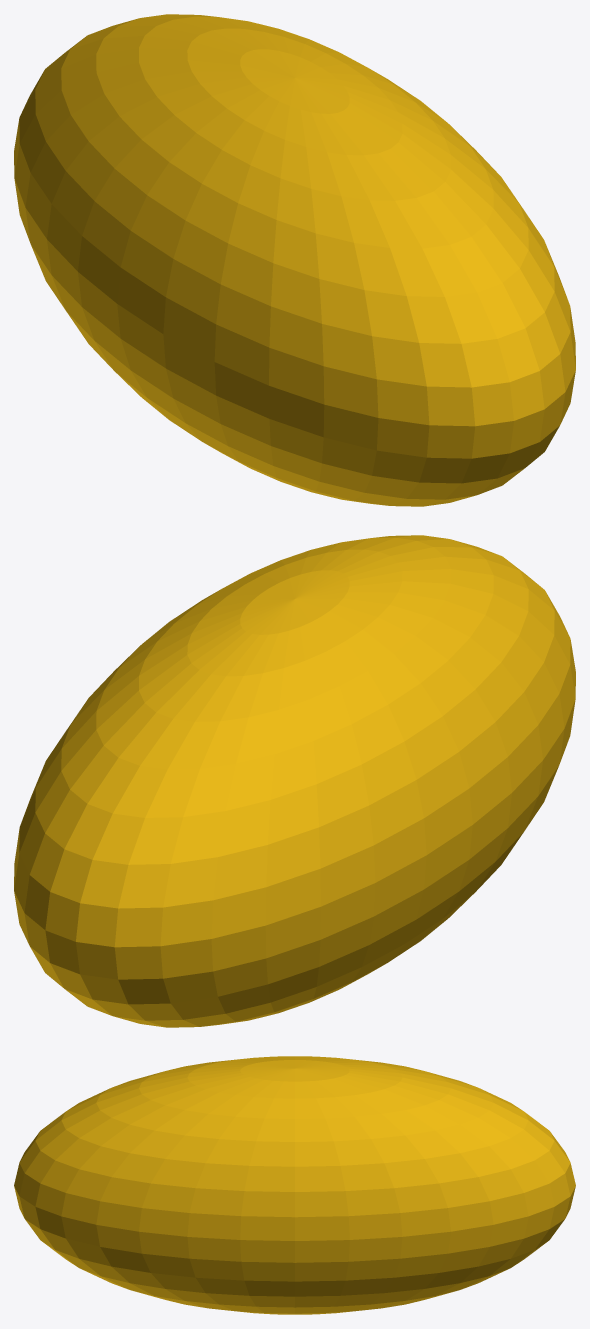
The model's file is 桃子树种子期1.fbx.
3 views of the same model, one above another, from view 1: azimuth 30°, elevation 25°; view 2: azimuth 150°, elevation 25°; view 3: azimuth 270°, elevation 25° (orthographic). The views are drawn at different scales.
Visible parts, largest first — view 1: Sphere; view 2: Sphere; view 3: Sphere.
Part boxes in pixels (x1,y1,x2,y2): Sphere: [14, 14, 575, 506]; Sphere: [14, 535, 575, 1027]; Sphere: [14, 1056, 575, 1314].
Size of the model in its own units: 7.96 by 7.81 by 17.
